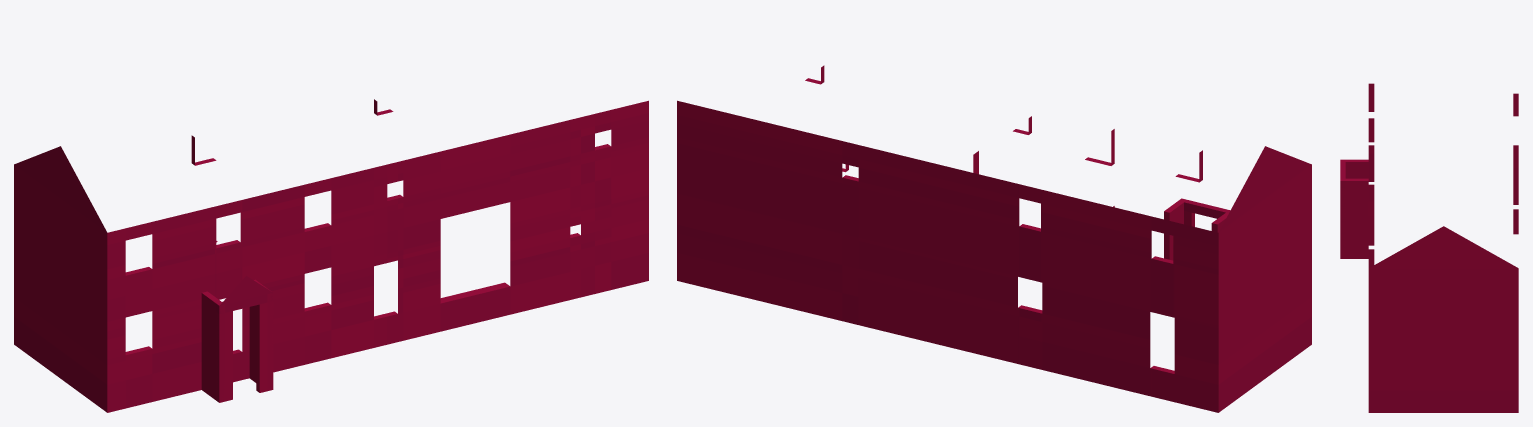
Rendered from SM_Bld_054_Masonry.glb.
3 views of the same model, side by side, from view 1: azimuth 30°, elevation 25°; view 2: azimuth 150°, elevation 25°; view 3: azimuth 270°, elevation 25° (orthographic). The views are drawn at different scales.
Parts seen in each view (by area): view 1: SM_Bld_054_Masonry; view 2: SM_Bld_054_Masonry; view 3: SM_Bld_054_Masonry.
Part boxes in pixels (x1=…): SM_Bld_054_Masonry: x1=14, y1=99, x2=648, y2=412; SM_Bld_054_Masonry: x1=677, y1=65, x2=1311, y2=412; SM_Bld_054_Masonry: x1=1340, y1=83, x2=1518, y2=412.
Size of the model in its own units: 20.12 by 8.27 by 7.15.
